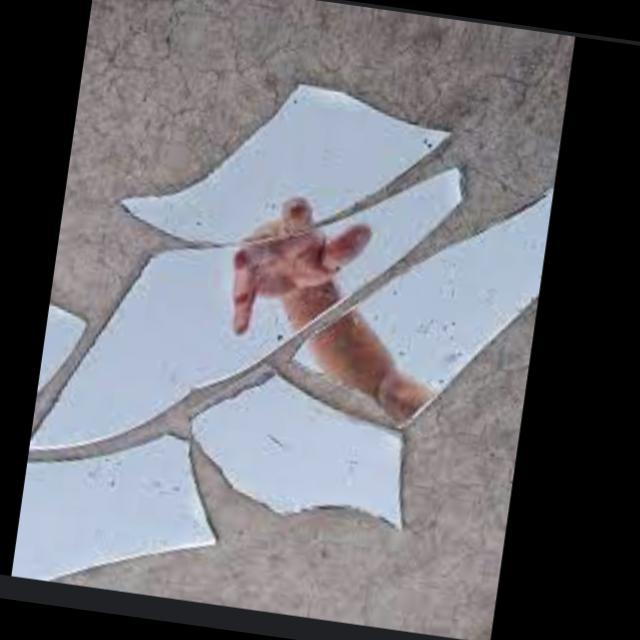PecahanKaca: (210, 186, 460, 432)
